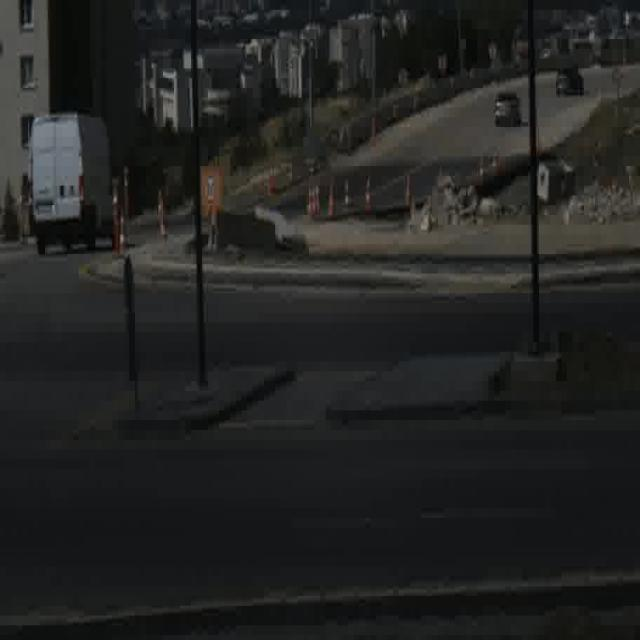Car: (32, 116, 110, 254), (495, 87, 522, 129), (556, 63, 584, 97)
